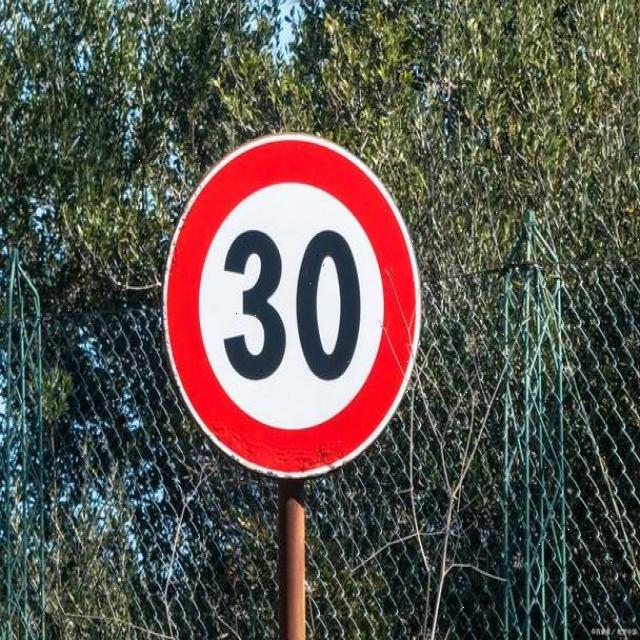speed limit 30: (163, 133, 419, 476)
